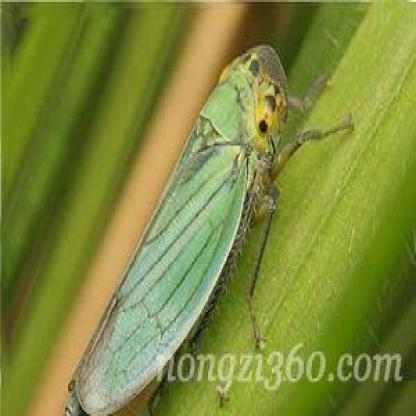Green-Leafhopper: (62, 43, 355, 416)
